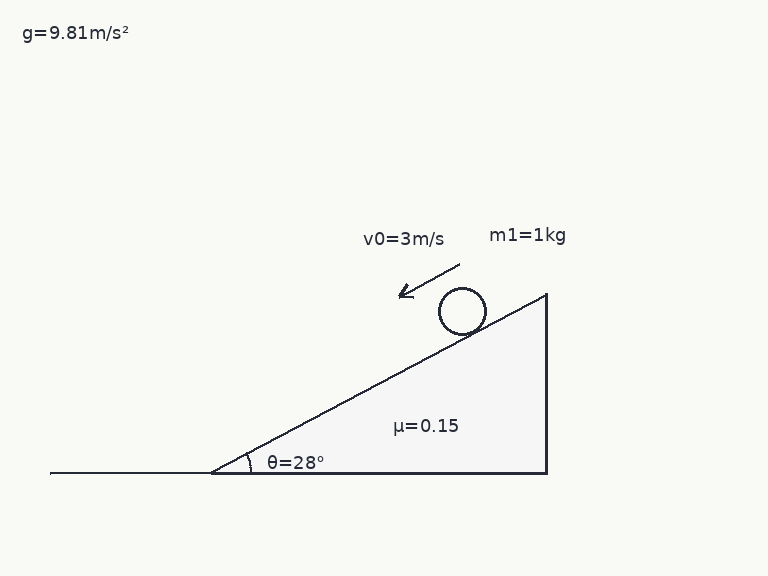ball: (436, 285, 488, 337)
ramp: (209, 292, 549, 474)
